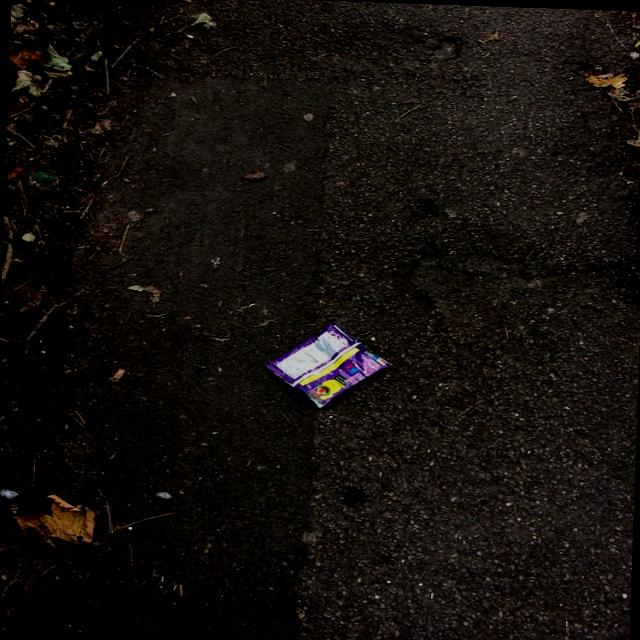Trash: (266, 323, 394, 412)
